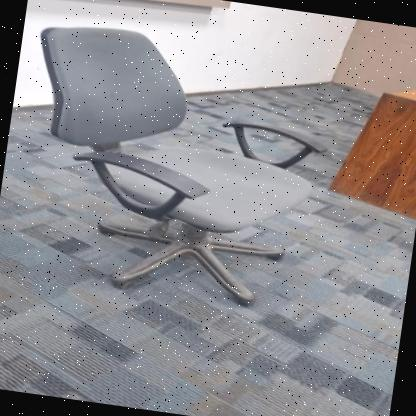chair: (4, 12, 340, 319)
